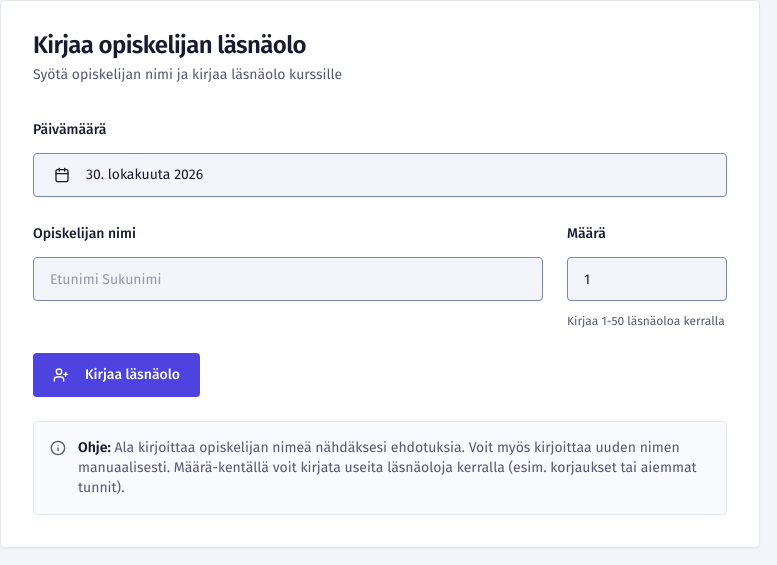
Scenario: the name field after a new Student is logged › does not claim nobody matches while the answer is being fetched again
Type "zz" into the dropdown labelled "Opiskelijan nimi".
click(288, 279); type("zz")  # box [33,257,543,301]
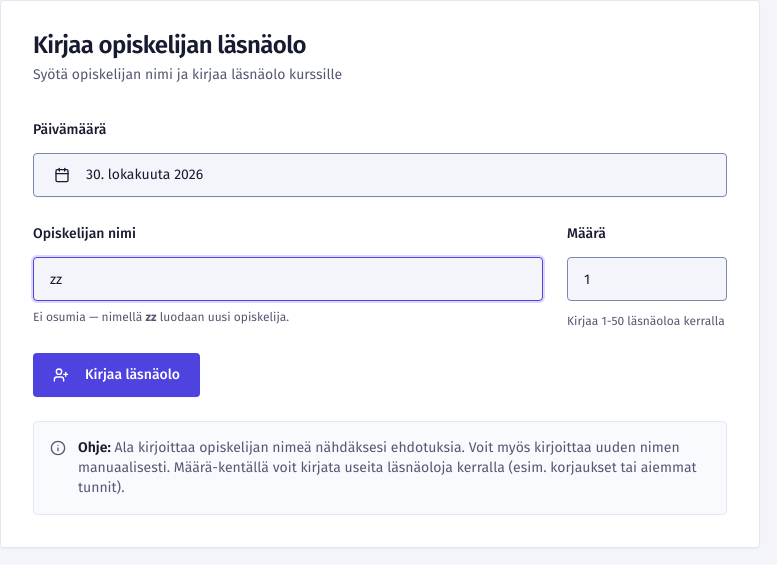
Expected: the text "Ei osumia — nimellä zz luodaan uusi opiskelija." is shown, [33,310,289,324]
